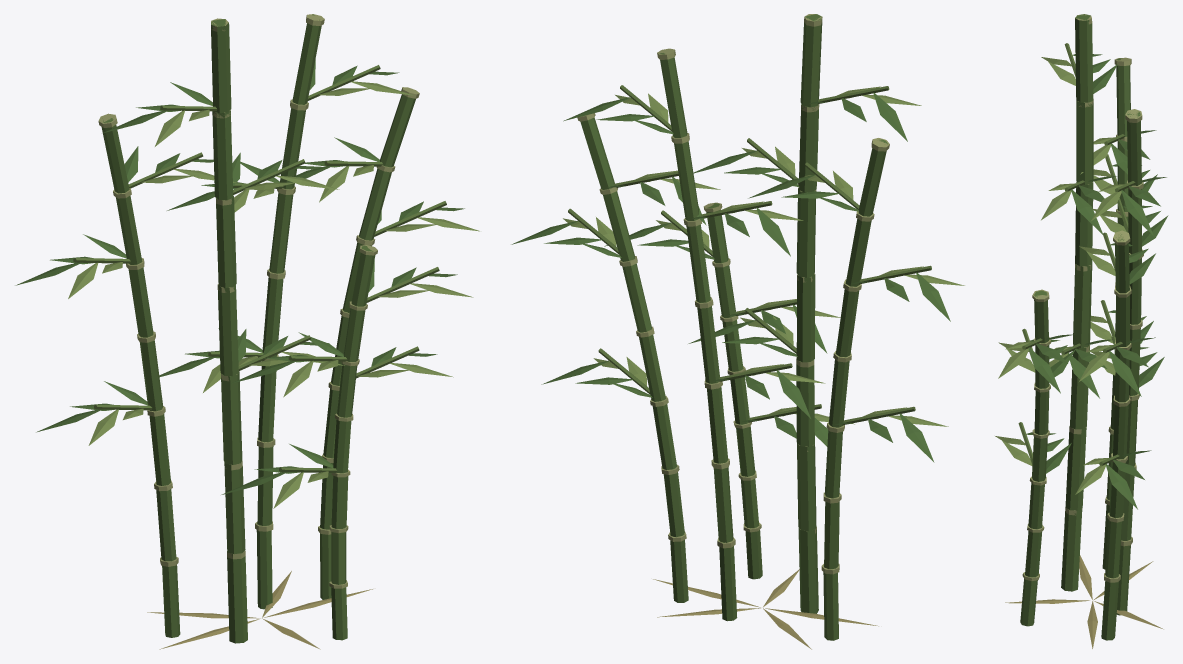
Rendered from nature-bamboo.glb.
The picture shows the model from 3 angles, left to right: view 1: azimuth 30°, elevation 25°; view 2: azimuth 150°, elevation 25°; view 3: azimuth 270°, elevation 25°; orthographic projection. The views are drawn at different scales.
Visible parts, largest first — view 1: SculptedModel; view 2: SculptedModel; view 3: SculptedModel.
Boxes of the visible parts, x1,y1,x2,y2 form: SculptedModel: (15,14,479,649); SculptedModel: (511,14,964,649); SculptedModel: (995,14,1168,648).
Bounding box in the file's own units: 2.74 × 3.58 × 0.9979.
